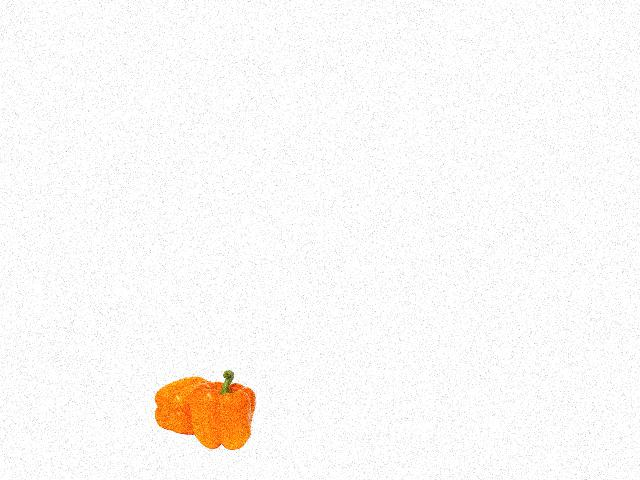bell_pepper: (150, 374, 212, 442)
